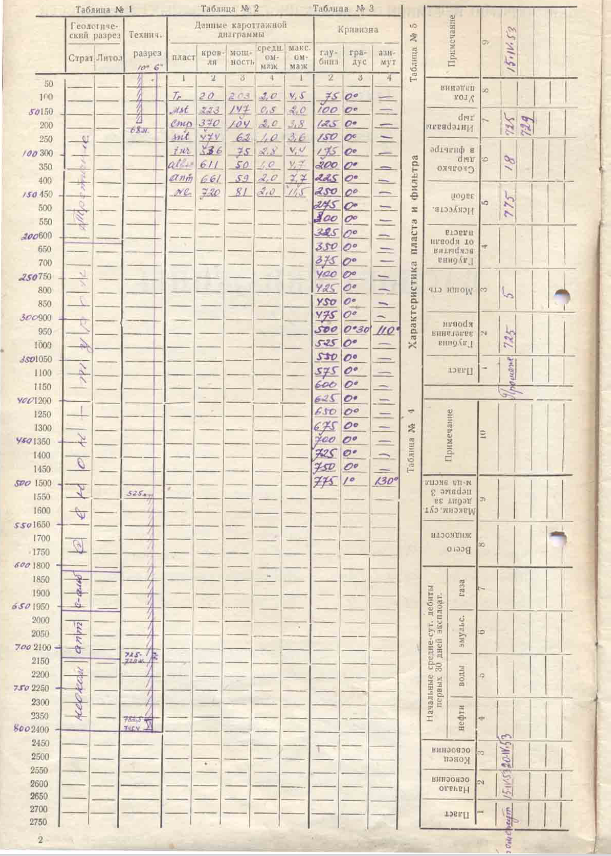Bordered: (313, 15, 400, 492)
